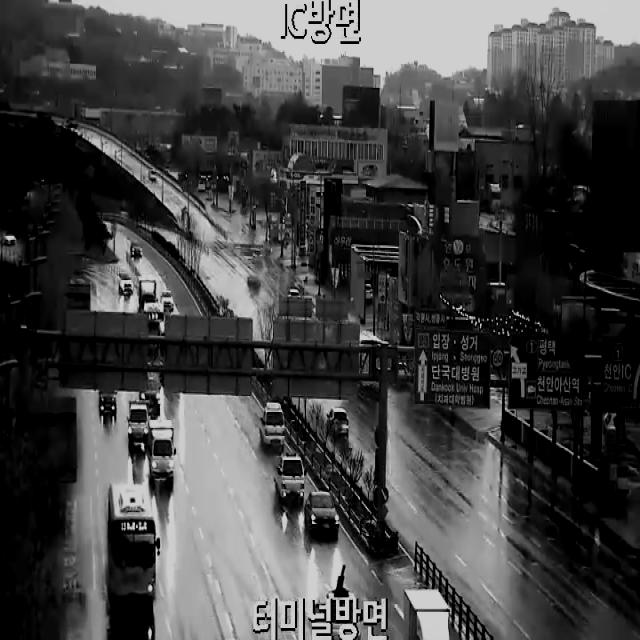Bus: (108, 482, 160, 598)
Car: (404, 589, 450, 640), (312, 590, 356, 640), (148, 419, 176, 484), (274, 453, 307, 505), (304, 492, 340, 535), (260, 402, 284, 452), (127, 400, 150, 446), (139, 372, 161, 411), (326, 406, 348, 439), (99, 390, 117, 415), (119, 273, 134, 294), (160, 292, 174, 310), (131, 243, 142, 257)
Truck: (139, 274, 158, 312)
